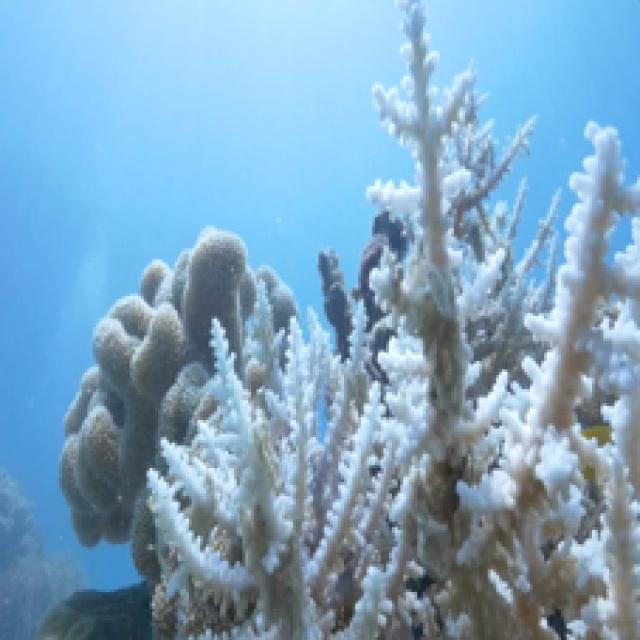Bleached: (376, 4, 534, 638), (148, 297, 393, 638), (60, 229, 255, 545), (525, 128, 638, 458), (599, 255, 638, 638)
